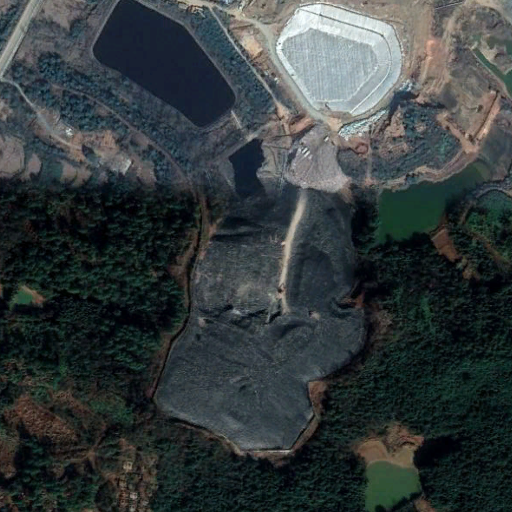lf: (141, 164, 368, 454)
